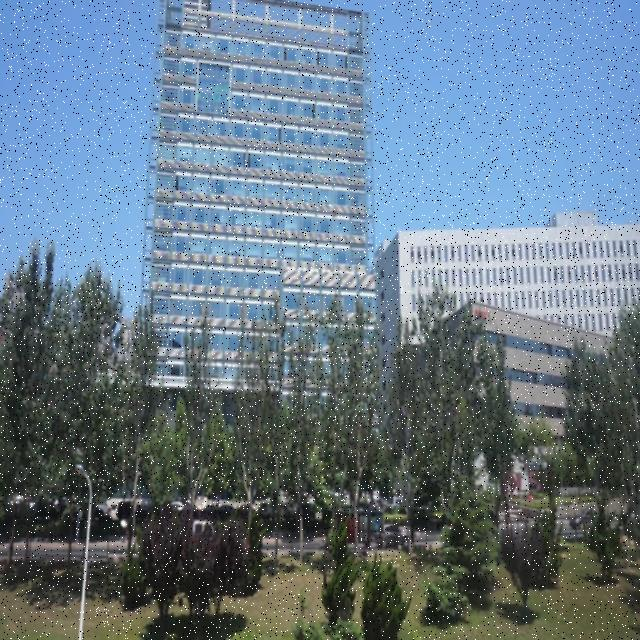UAV: (329, 205, 342, 218)
